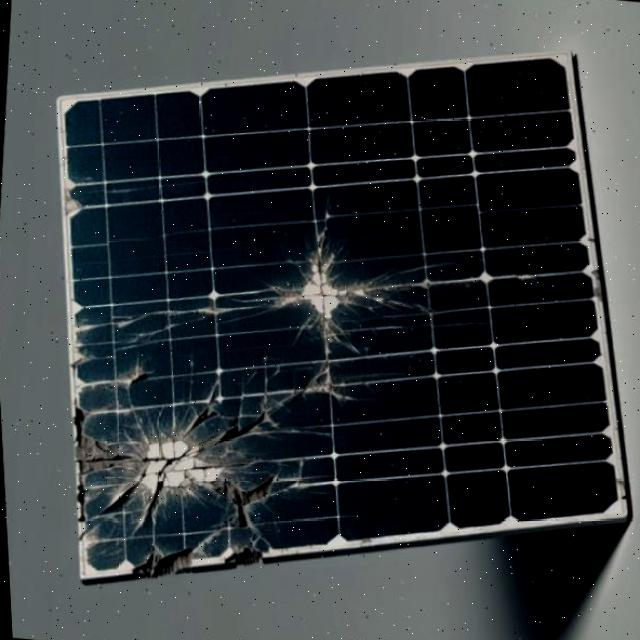Anomaly Solar Panel: (13, 44, 629, 573)
Structural Damage: (229, 181, 440, 393), (117, 403, 238, 509), (68, 401, 133, 524), (201, 445, 292, 530), (110, 291, 264, 326), (171, 375, 233, 442), (76, 168, 224, 195), (109, 533, 199, 574), (195, 402, 271, 449), (88, 462, 148, 516), (125, 307, 205, 341), (292, 361, 344, 412), (394, 250, 481, 274), (260, 376, 313, 414), (349, 317, 489, 331), (201, 537, 263, 562)
